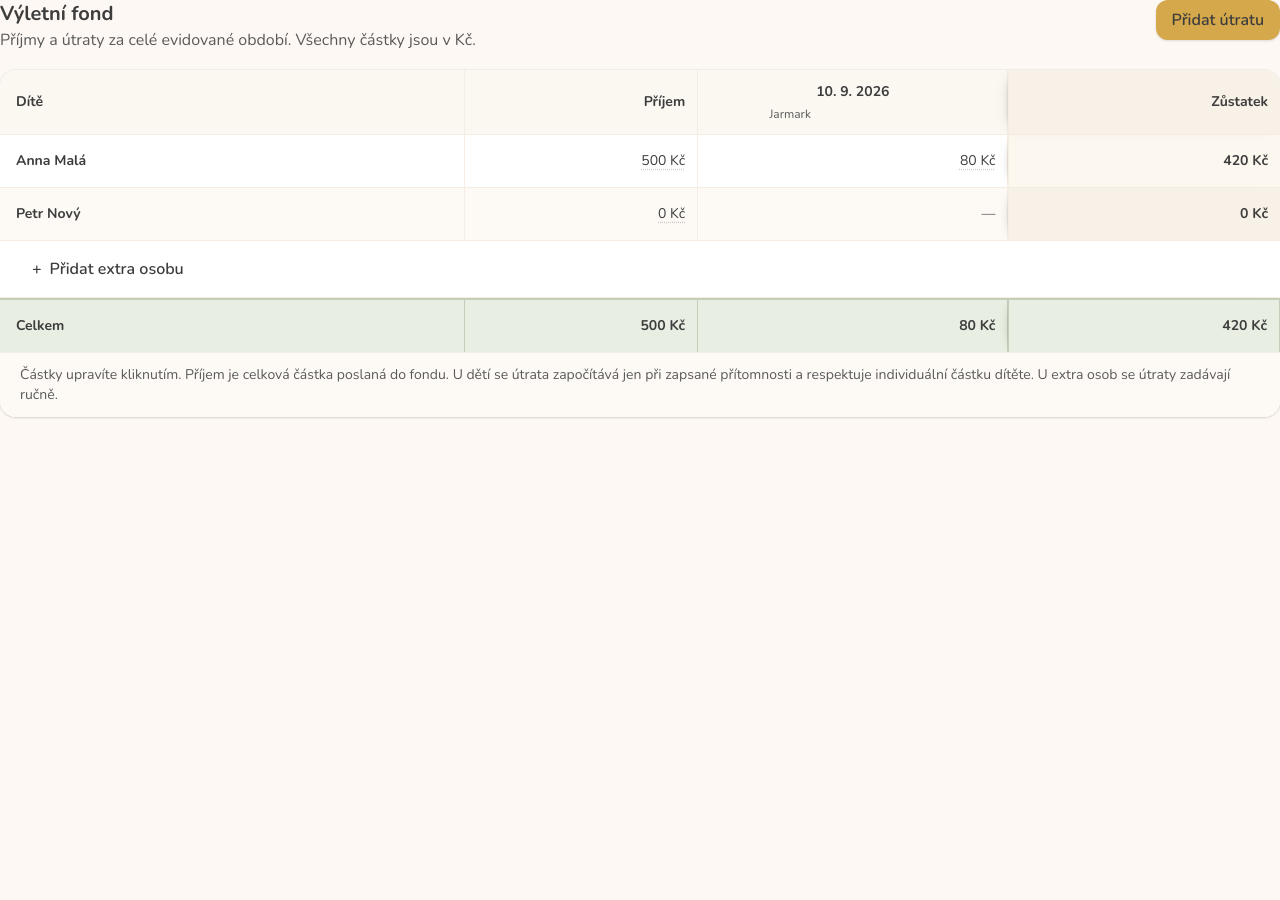
Scenario: editable trip fund › opens a contextual modal on mobile and saves an individual zero
Step 1. Click the button with aria-label "Upravit útratu: Anna Malá, 10. 9. 2026" → [978, 160], box [702,139,1004,183]
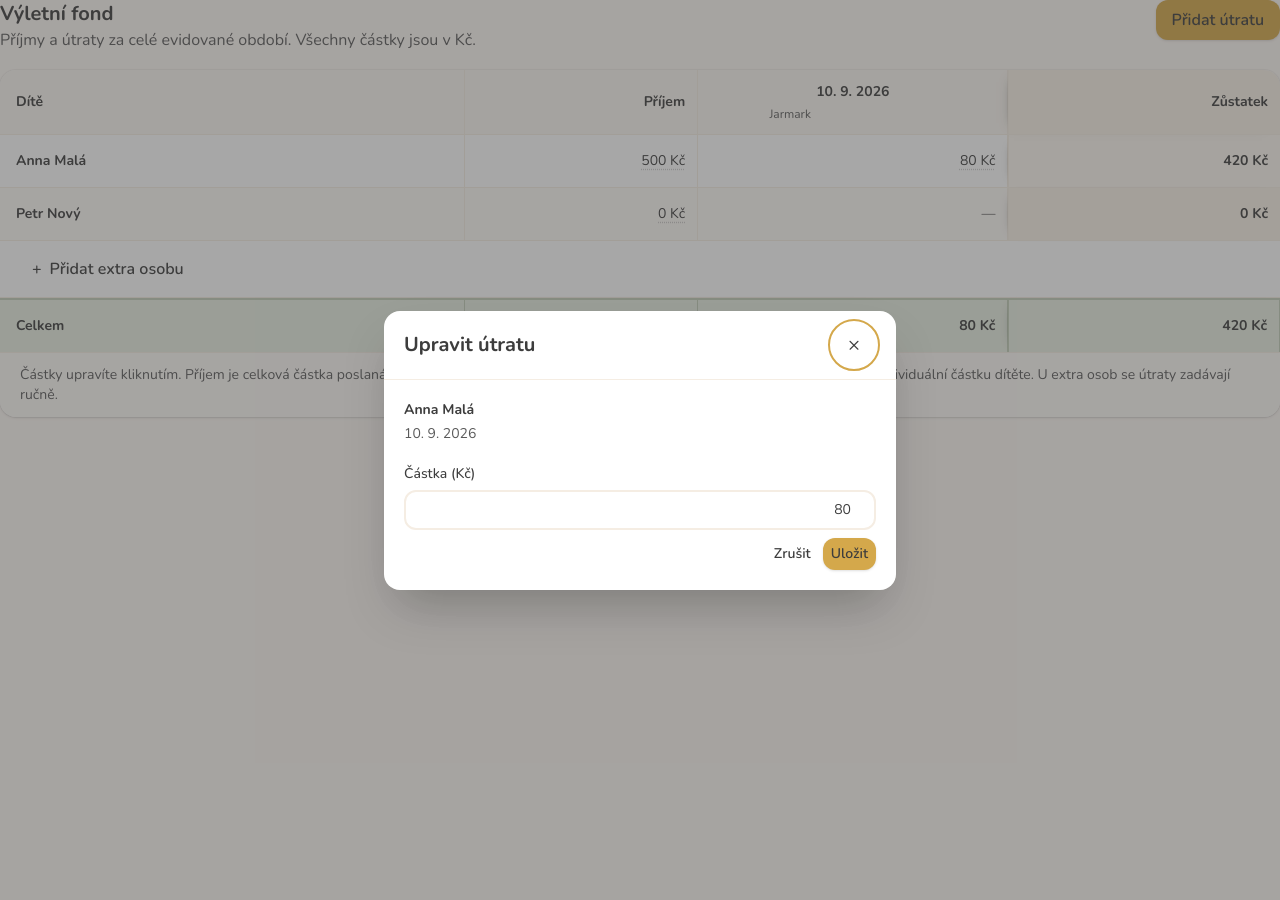
Now the text "Anna Malá" is shown, box [404,400,474,418]
Now the text "10. 9. 2026" is shown, box [404,424,476,442]
Step 2. Replace the text in the number field with "0" → [640, 510], box [404,490,876,530]
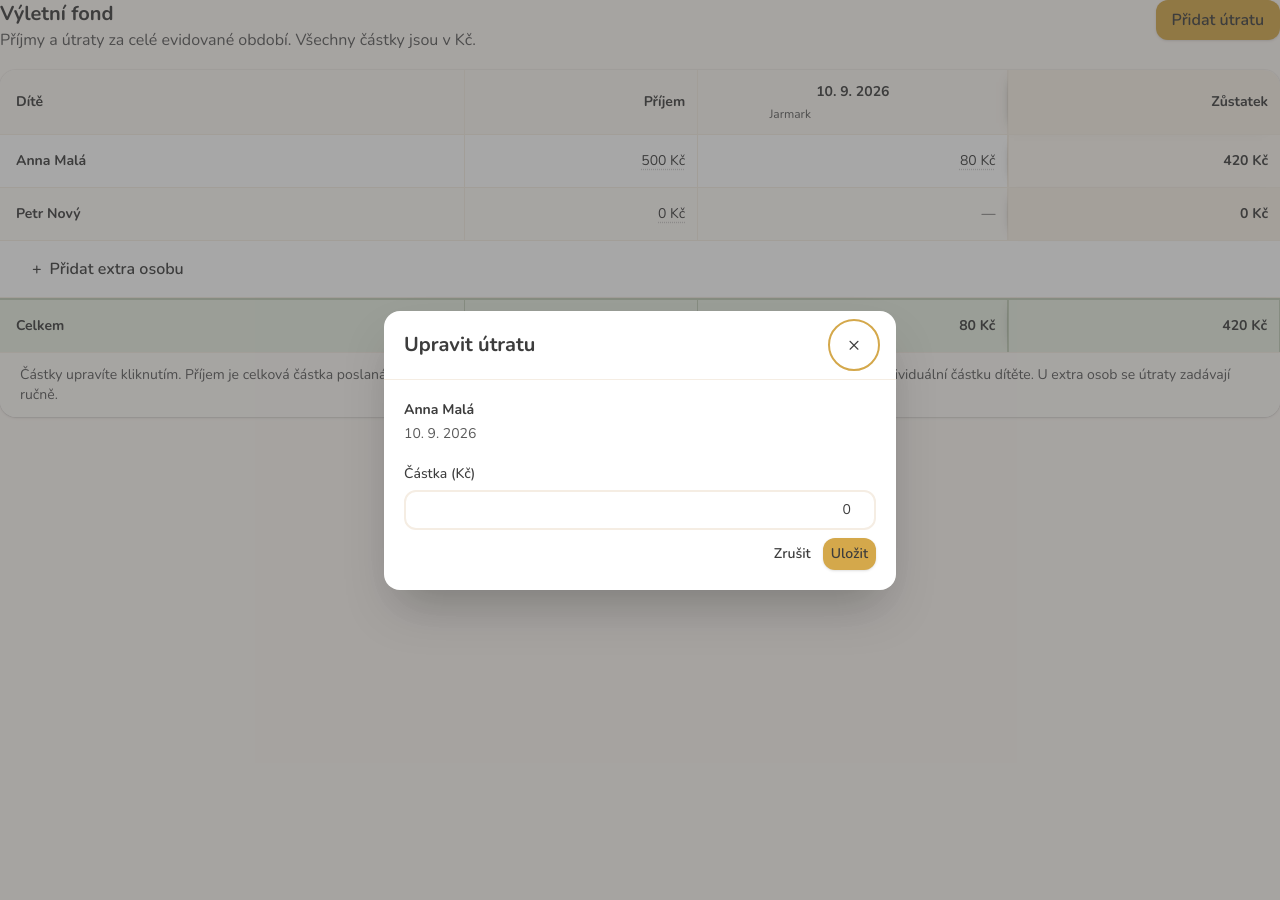
Step 3. Click the button "Uložit" → [849, 554], box [823,538,876,570]
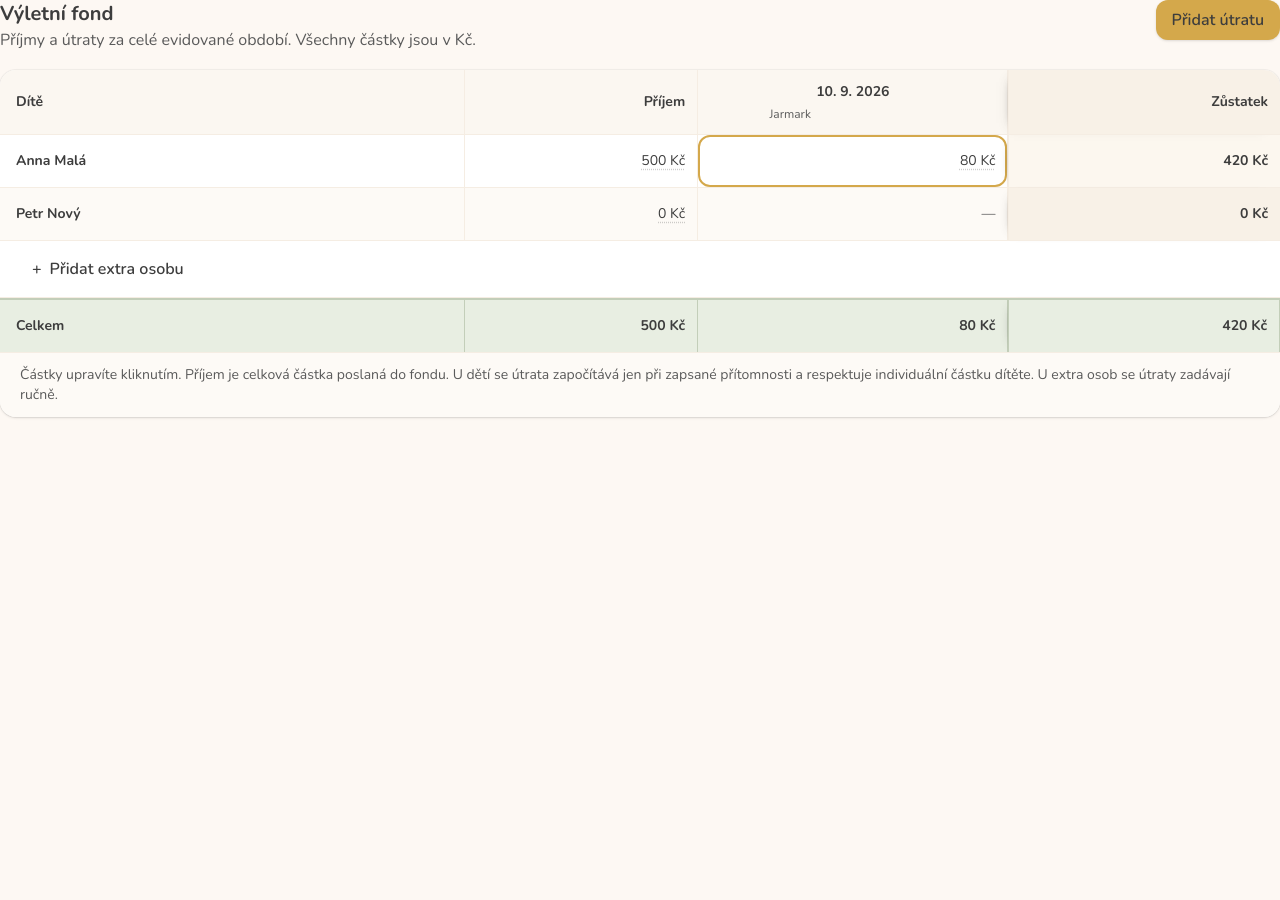
Now the dialog is gone
